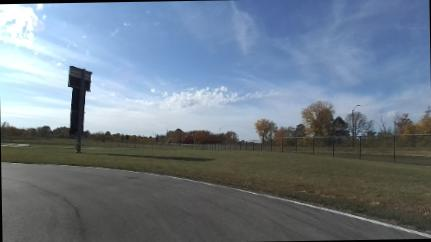Grass: (1, 147, 430, 230)
Lane: (1, 163, 427, 241)
